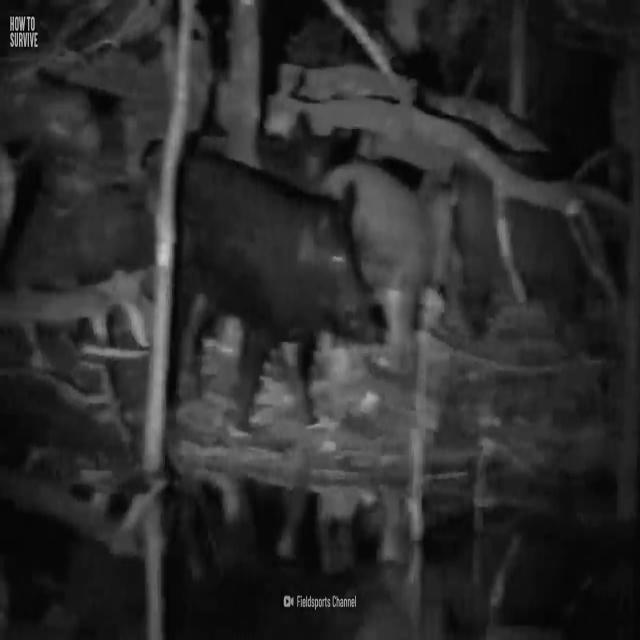pig: (157, 79, 384, 420)
